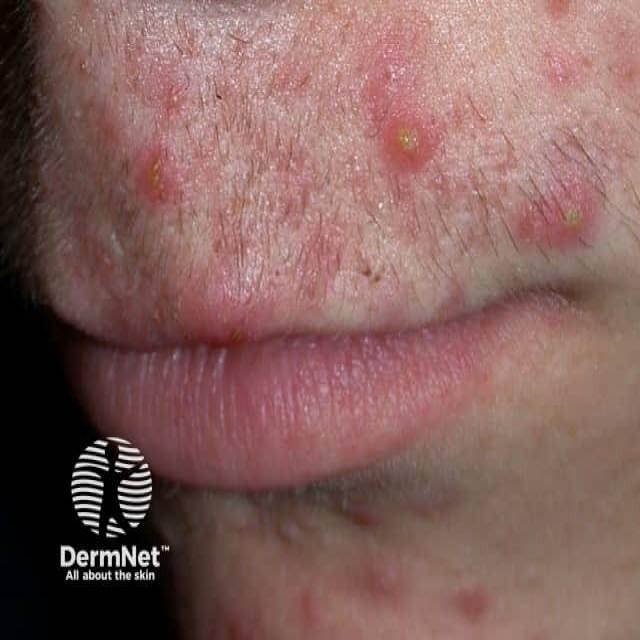Acne: (58, 76, 475, 198)
